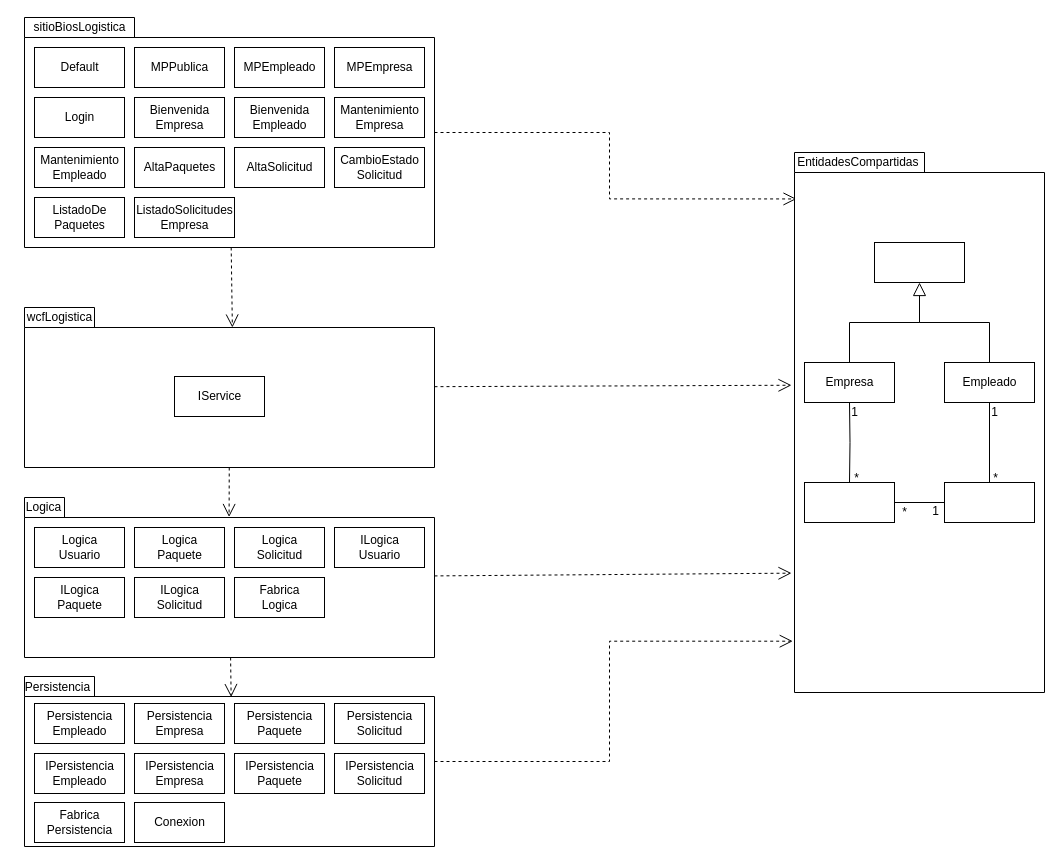
Image size: 1062x864. Some labels were removed from this diagram. The shapes that lost their labels are listed below. From the top down, each one's centre as x and y in pixels, then its label:
(919,262): Usuario
(849,502): Paquete
(989,502): Solicitud
